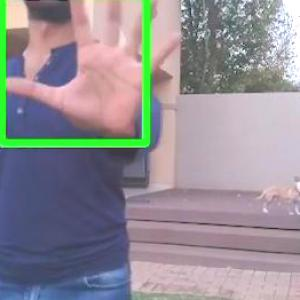follow_hand: (1, 0, 192, 139)
